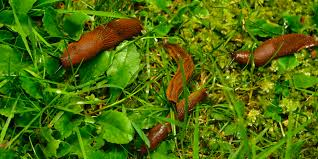slug: (140, 91, 207, 153), (61, 19, 140, 66), (228, 36, 313, 65), (161, 39, 188, 104)
